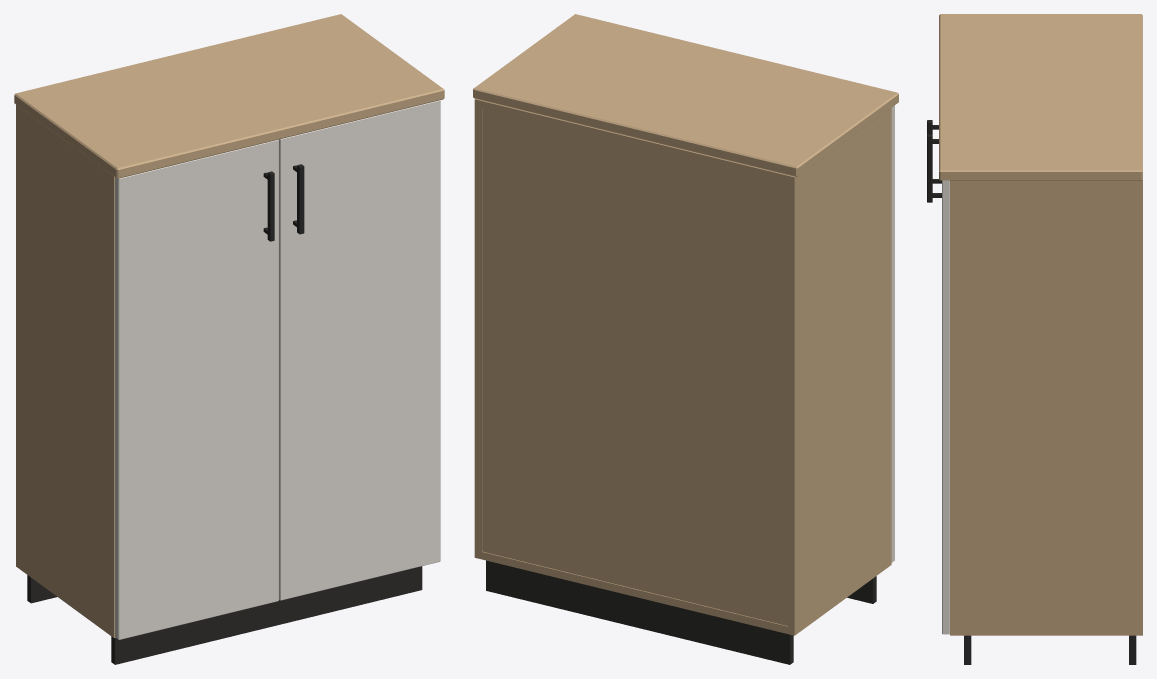
Rendered from 45_szafka_biurowa_80.glb.
3 views of the same model, side by side, from view 1: azimuth 30°, elevation 25°; view 2: azimuth 150°, elevation 25°; view 3: azimuth 270°, elevation 25° (orthographic).
Visible parts, largest first — view 1: Front_drzwi_1, Front_drzwi_2, Korpus, Wierzch, Cokol, Uchwyty; view 2: Korpus, Wierzch, Cokol, Front_drzwi_1; view 3: Korpus, Wierzch, Front_drzwi_2, Uchwyty, Cokol.
Part boxes in pixels (x1,y1,x2,y2): Front_drzwi_1: [115, 139, 278, 639]; Front_drzwi_2: [279, 100, 440, 600]; Korpus: [16, 104, 115, 637]; Wierzch: [14, 14, 444, 178]; Cokol: [27, 566, 422, 664]; Uchwyty: [263, 164, 304, 241]; Korpus: [474, 99, 891, 635]; Wierzch: [473, 14, 898, 176]; Cokol: [486, 560, 876, 664]; Front_drzwi_1: [891, 105, 894, 562]; Korpus: [950, 179, 1142, 635]; Wierzch: [939, 14, 1142, 180]; Front_drzwi_2: [942, 180, 949, 634]; Uchwyty: [927, 120, 941, 202]; Cokol: [964, 635, 1136, 664].
Bounding box in the file's own units: 0.812 × 1.2 × 0.47.
